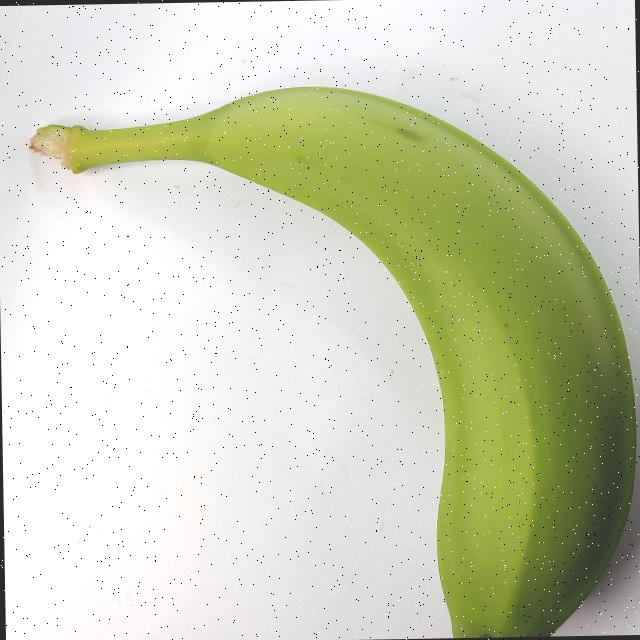Raw: (15, 77, 640, 640)
